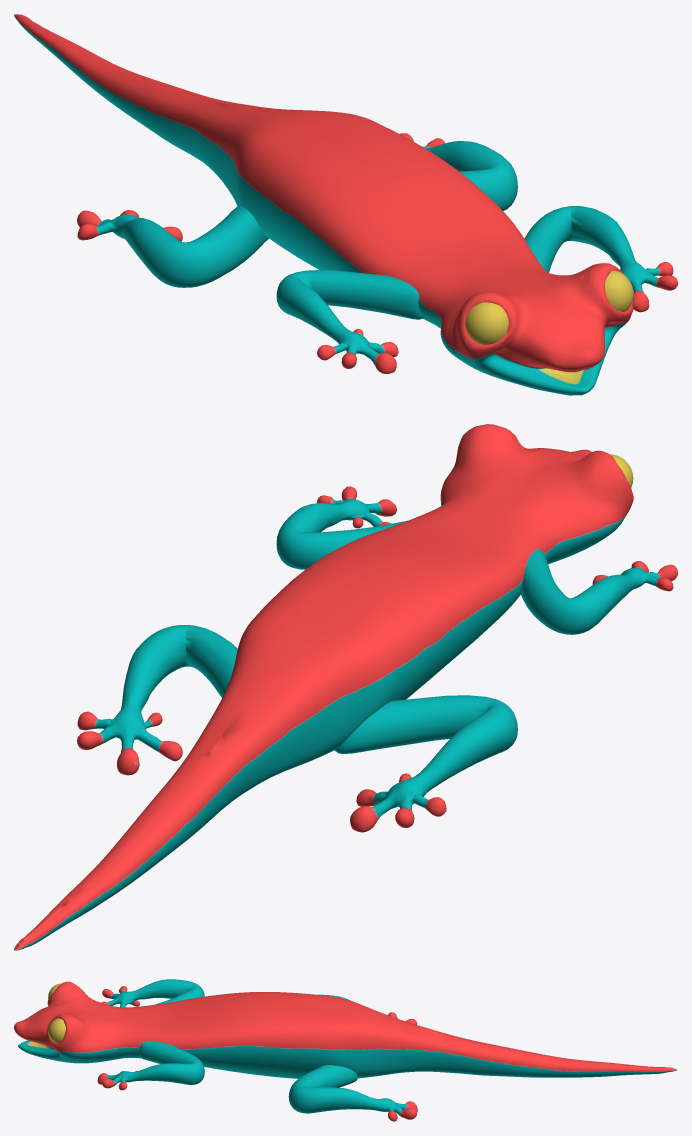
File: GeckoColour.fbx
The picture shows the model from 3 angles, top to bottom: view 1: azimuth 30°, elevation 25°; view 2: azimuth 150°, elevation 25°; view 3: azimuth 270°, elevation 25°; orthographic projection. The views are drawn at different scales.
Parts seen in each view (by area): view 1: Plane.001, Sphere.001, Sphere.002; view 2: Plane.001; view 3: Plane.001, Sphere.002.
Boxes of the visible parts, x1,y1,x2,y2 form: Plane.001: [14, 14, 677, 395]; Sphere.001: [465, 302, 508, 344]; Sphere.002: [605, 270, 633, 311]; Plane.001: [14, 424, 677, 950]; Plane.001: [14, 979, 677, 1121]; Sphere.002: [48, 1018, 65, 1042].
Bounding box in the file's own units: 653 × 242 × 1773.
